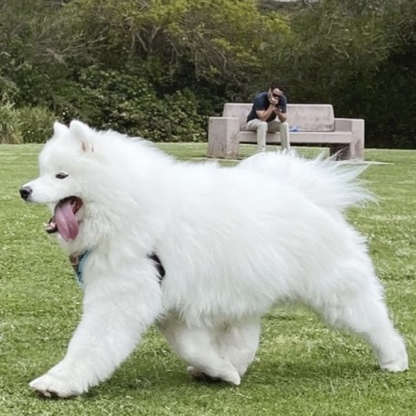samoyed: (16, 115, 416, 405)
